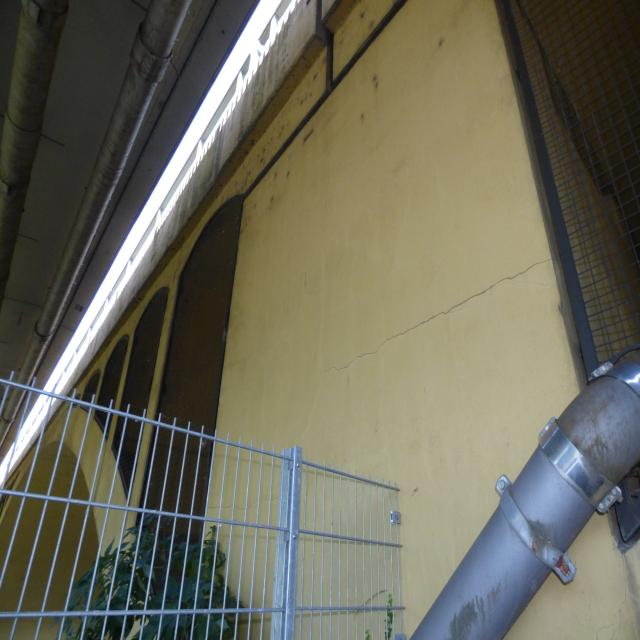corrosion: (554, 552, 572, 582), (528, 537, 541, 556)
